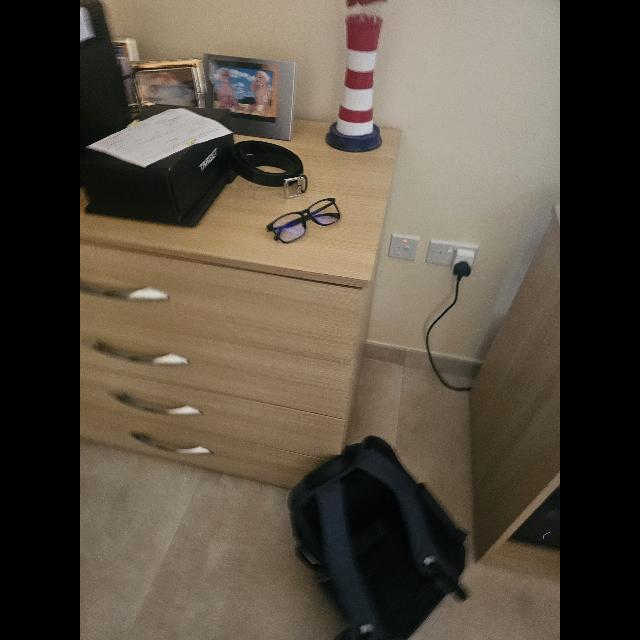glasses: (266, 198, 340, 244)
